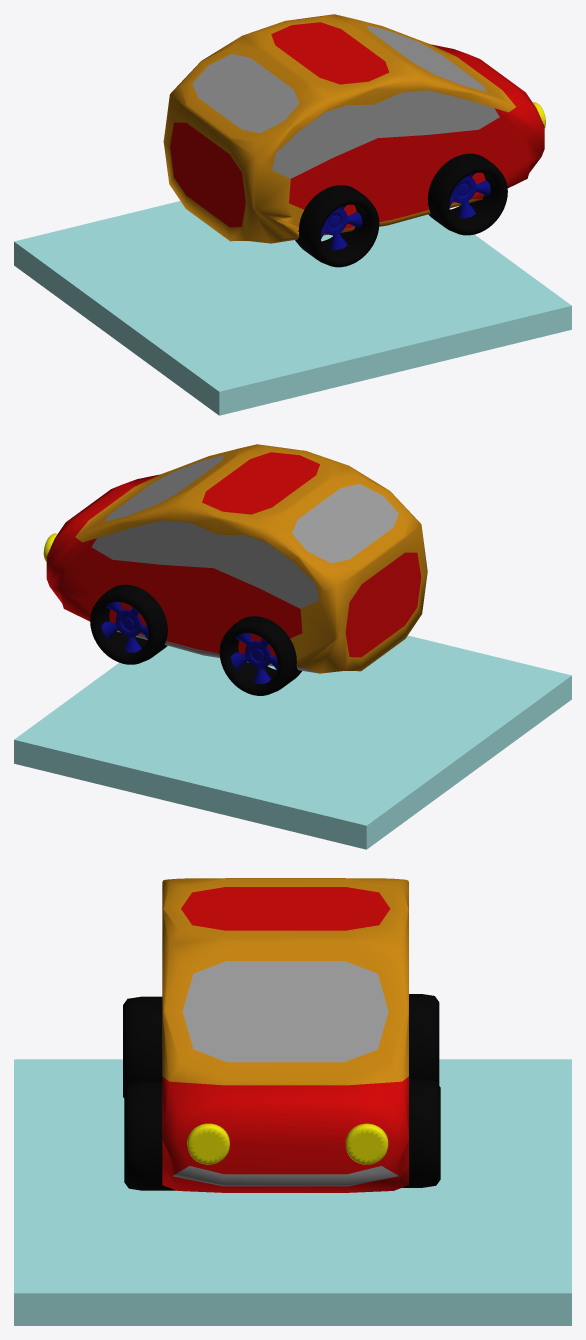
Rendered from carro.DAE.
3 views of the same model, one above another, from view 1: azimuth 30°, elevation 25°; view 2: azimuth 150°, elevation 25°; view 3: azimuth 270°, elevation 25° (orthographic). The views are drawn at different scales.
Parts seen in each view (by area): view 1: Box002, Box01, Tube04, Tube03, Cylinder05, Cylinder04; view 2: Box002, Box01, Tube02, Tube01, Cylinder02, Cylinder03; view 3: Box002, Box01, Tube03, Tube04, Tube01, Tube02, Cylinder07, Cylinder06.
Boxes of the visible parts, box(x1,y1,x2,y2) form: Box002: box(14, 201, 571, 415); Box01: box(163, 14, 544, 243); Tube04: box(295, 185, 379, 267); Tube03: box(427, 153, 507, 235); Cylinder05: box(321, 205, 362, 250); Cylinder04: box(449, 173, 490, 218); Box002: box(14, 635, 571, 849); Box01: box(46, 444, 427, 673); Tube02: box(219, 616, 301, 695); Tube01: box(90, 584, 167, 664); Cylinder02: box(101, 602, 148, 652); Cylinder03: box(230, 633, 277, 683); Box002: box(14, 1059, 571, 1325); Box01: box(162, 878, 408, 1192); Tube03: box(124, 1082, 175, 1190); Tube04: box(123, 996, 162, 1097); Tube01: box(402, 1079, 440, 1187); Tube02: box(409, 994, 439, 1085); Cylinder07: box(345, 1123, 388, 1164); Cylinder06: box(187, 1123, 229, 1164).
Size of the model in its own units: 145 by 132 by 84.33.
